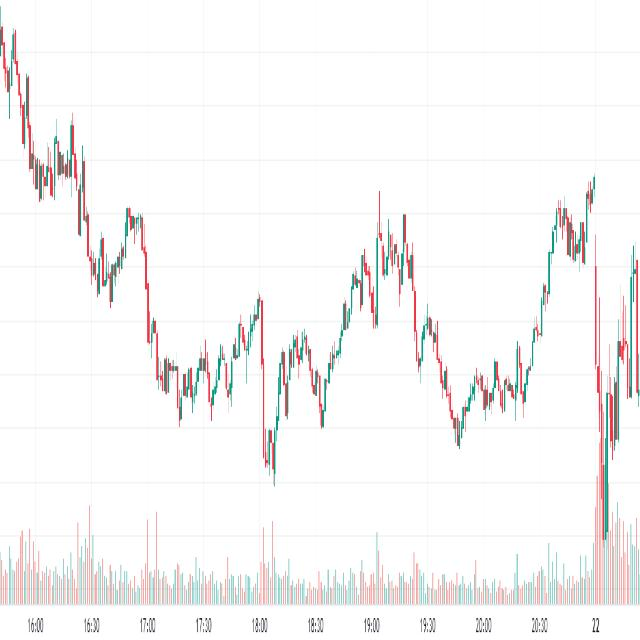Rounding-Bottom: (410, 246, 552, 458), (142, 286, 261, 432)
Rounding-Top: (276, 315, 318, 409)
